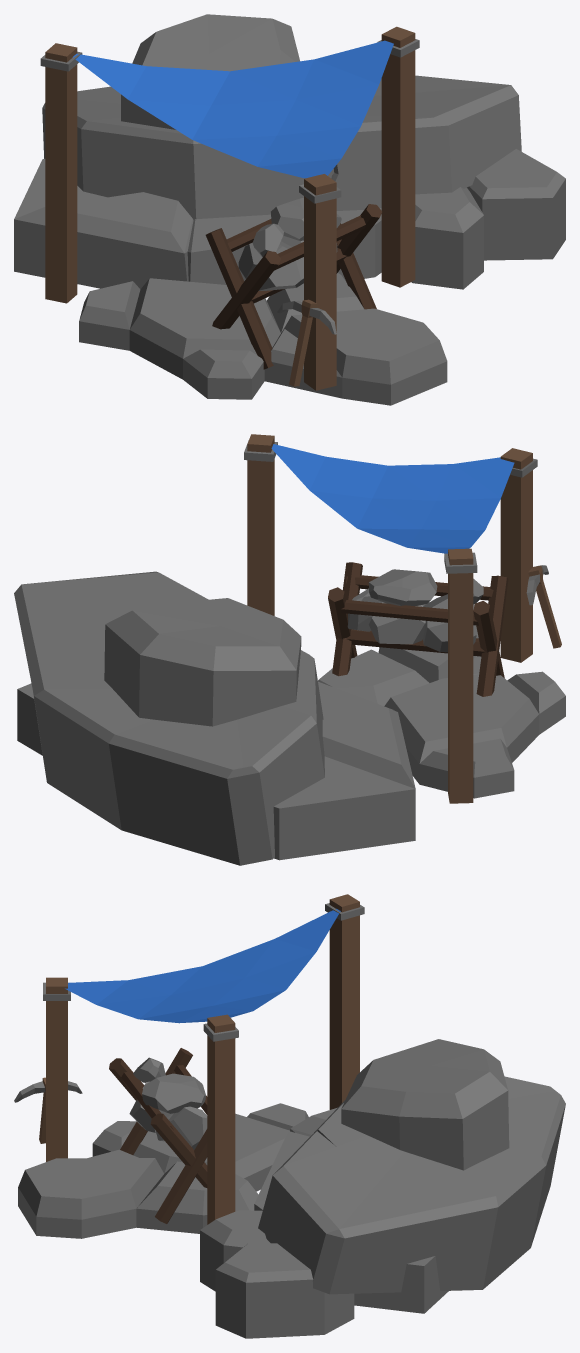
Rendered from Quarry LvL 1.fbx.
3 renders of one model, top to bottom at view 1: azimuth 30°, elevation 25°; view 2: azimuth 150°, elevation 25°; view 3: azimuth 270°, elevation 25°, orthographic. The views are drawn at different scales.
Visible parts, largest first — view 1: Quarry.001, TeamColorObj.001; view 2: Quarry.001, TeamColorObj.001; view 3: Quarry.001, TeamColorObj.001.
Boxes of the visible parts, left/top/right/bottom form: Quarry.001: left=14, top=14, right=565, bottom=405; TeamColorObj.001: left=73, top=40, right=393, bottom=178; Quarry.001: left=14, top=434, right=565, bottom=865; TeamColorObj.001: left=271, top=444, right=514, bottom=553; Quarry.001: left=14, top=894, right=565, bottom=1338; TeamColorObj.001: left=65, top=908, right=340, bottom=1023.
Size of the model in its own units: 148 by 79.12 by 165.
